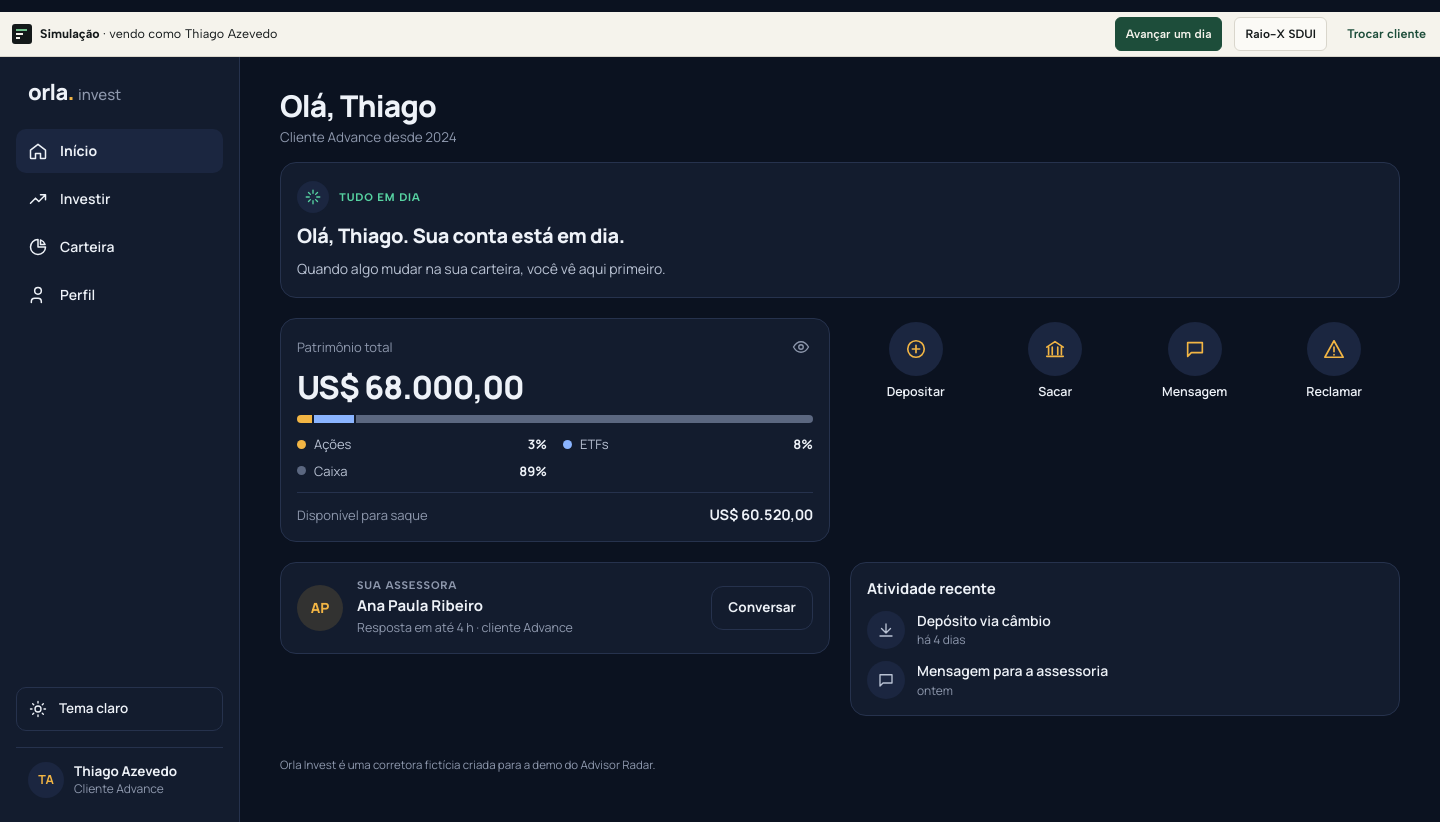
Carteira route › opens Carteira from the Início tab
Expected: the heading "Olá, Thiago" is shown, [280,85,436,126]
Click the button "Carteira": (120, 247) [16,225,223,269]
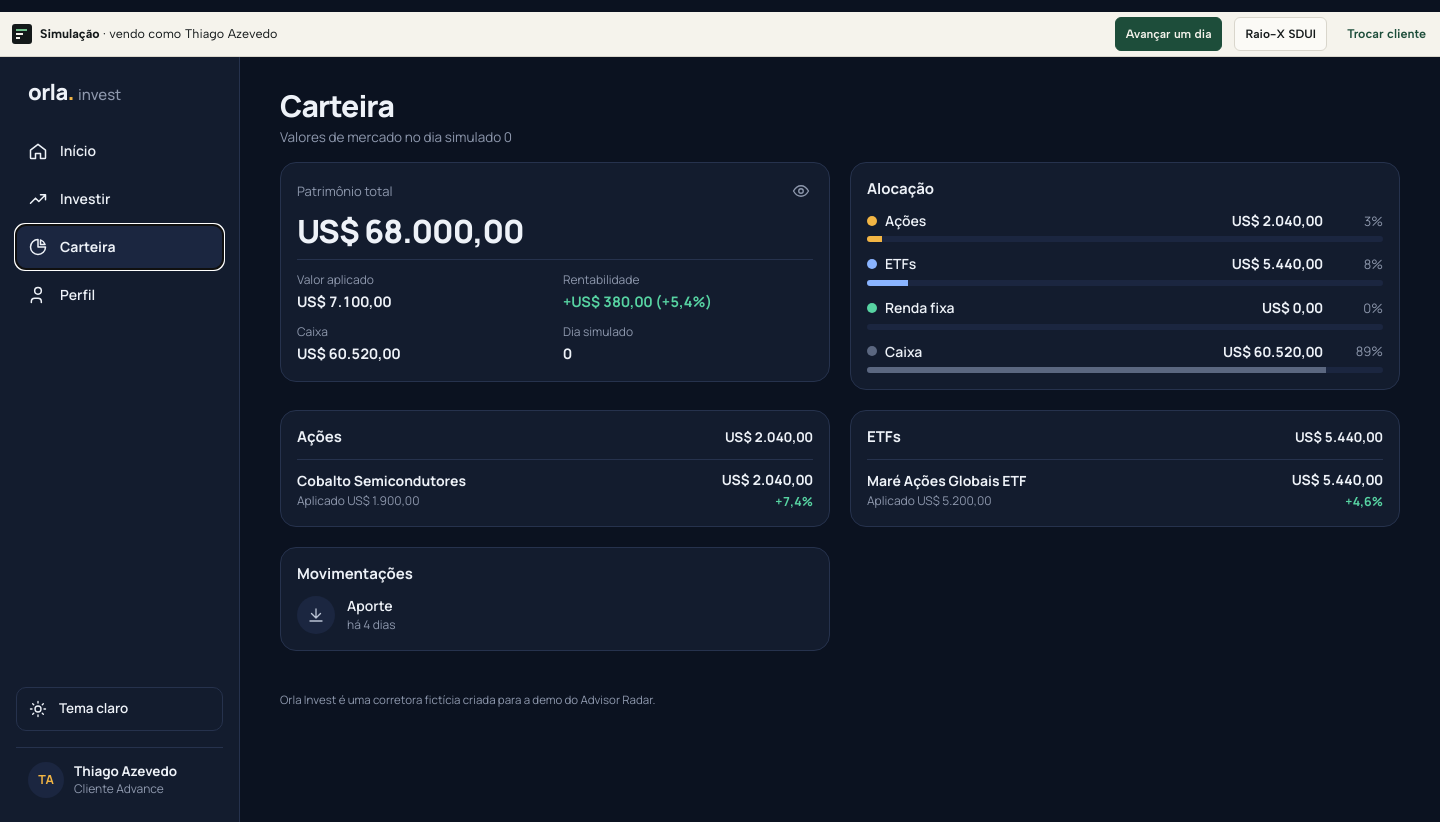
Result: the heading "Carteira" is shown at [280,85,394,126]
Result: the element "Movimentações" is shown at [280,547,830,651]
